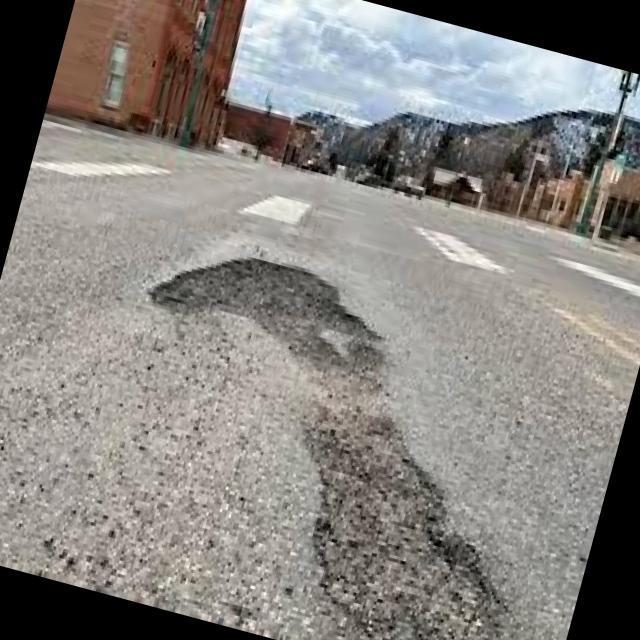Pothole: (147, 262, 504, 640)
